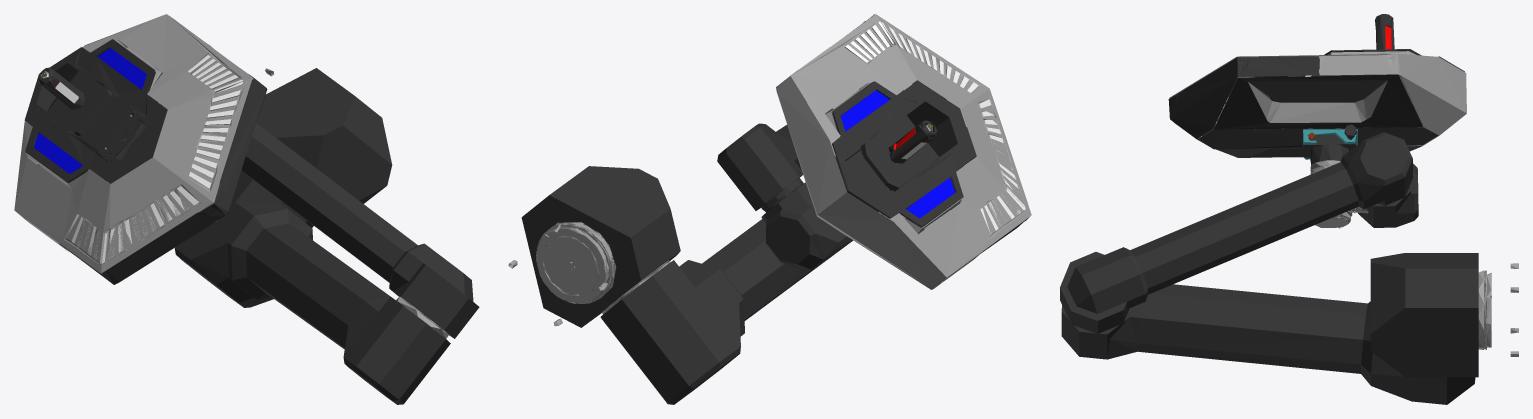
File: tech-core-collision.glb
3 views of the same model, side by side, from view 1: azimuth 30°, elevation 25°; view 2: azimuth 150°, elevation 25°; view 3: azimuth 270°, elevation 25° (orthographic). The views are drawn at different scales.
Parts seen in each view (by area): view 1: tech-core/upper_arm, tech-core/shared_joint_hardware, tech-core/tool/assembly, tech-core/forearm, tech-core/shoulder/housing, tech-core/tool/cover; view 2: tech-core/shared_joint_hardware, tech-core/upper_arm, tech-core/tool/assembly, tech-core/shoulder/housing, tech-core/forearm, tech-core/tool/cover; view 3: tech-core/forearm, tech-core/upper_arm, tech-core/shoulder/housing, tech-core/shared_joint_hardware, tech-core/tool/assembly, tech-core/tool/side_0, tech-core/tool/side_1.
Boxes of the visible parts, x1,y1,x2,y2 form: tech-core/upper_arm: (174,171,450,404); tech-core/shared_joint_hardware: (14,14,448,338); tech-core/tool/assembly: (24,39,266,284); tech-core/forearm: (241,123,479,338); tech-core/shoulder/housing: (256,68,392,203); tech-core/tool/cover: (65,185,199,263); tech-core/shared_joint_hardware: (508,14,1031,326); tech-core/upper_arm: (600,219,852,404); tech-core/tool/assembly: (807,14,1029,252); tech-core/shoulder/housing: (521,166,680,327); tech-core/forearm: (717,123,849,271); tech-core/tool/cover: (978,99,1025,236); tech-core/forearm: (1060,132,1418,333); tech-core/upper_arm: (1061,284,1475,404); tech-core/shoulder/housing: (1370,253,1478,377); tech-core/shared_joint_hardware: (1169,51,1518,356); tech-core/tool/assembly: (1168,14,1464,166); tech-core/tool/side_0: (1214,74,1422,129); tech-core/tool/side_1: (1216,146,1422,157).
Bounding box in the file's own units: 0.779 × 0.648 × 0.8761.
